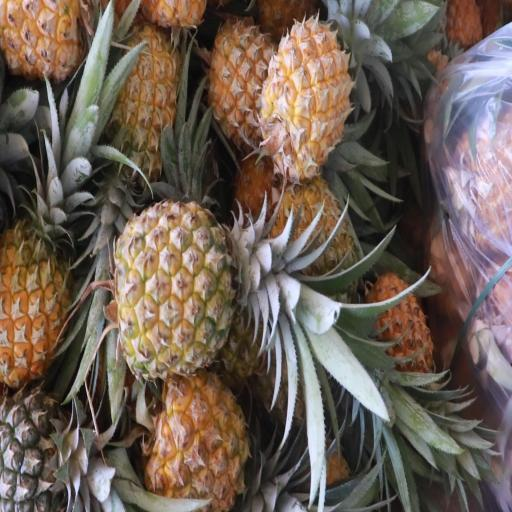------------------------------: (109, 205, 300, 374)
Pineapple - v8 v1: (145, 383, 308, 512), (0, 133, 73, 391), (253, 18, 366, 174), (105, 25, 183, 184), (206, 17, 271, 134)
